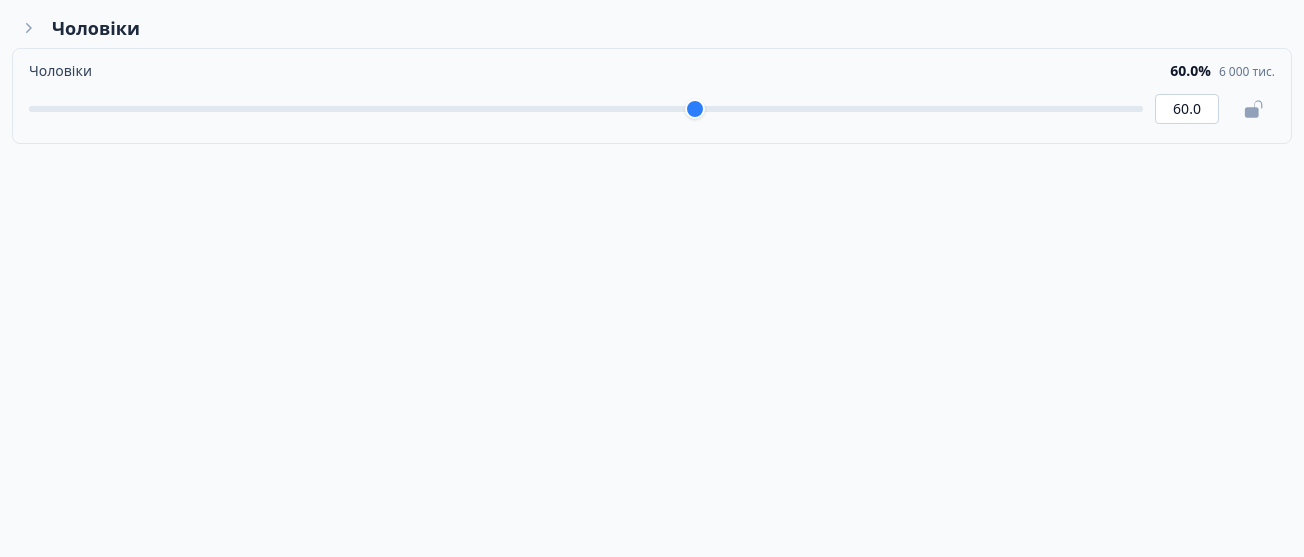
TreePanel industry list toggle › shows industry nodes when expanded
Click the button with aria-label "expand чоловіки": (96, 28) [12,12,1292,44]
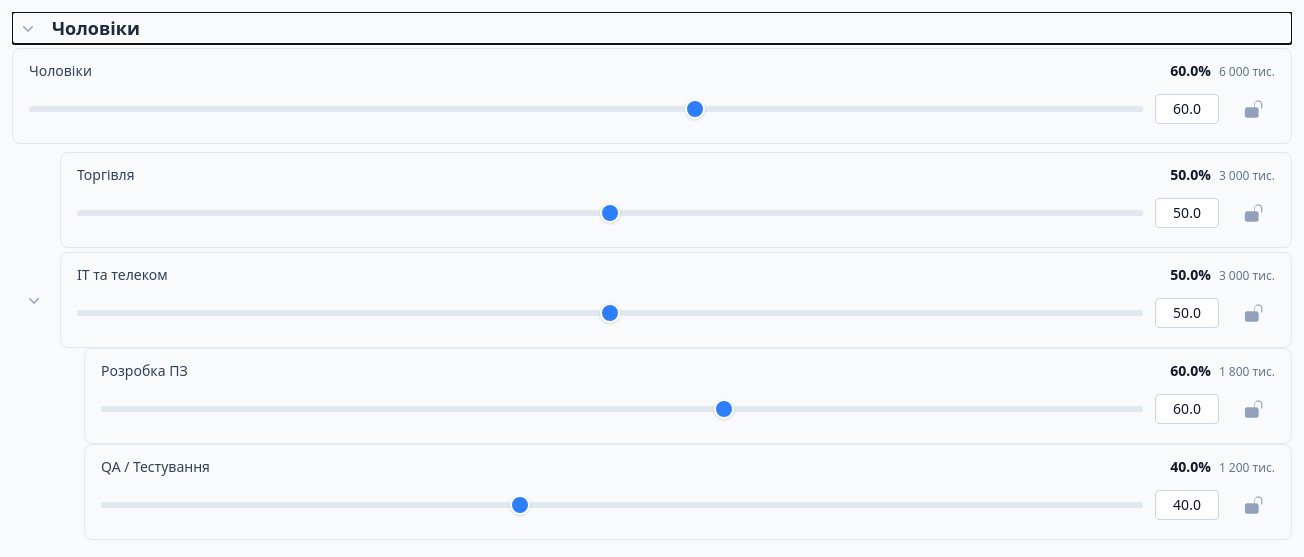
Result: the text "Торгівля" is shown at [77,165,134,185]
Result: the text "IT та телеком" is shown at [77,265,168,285]
